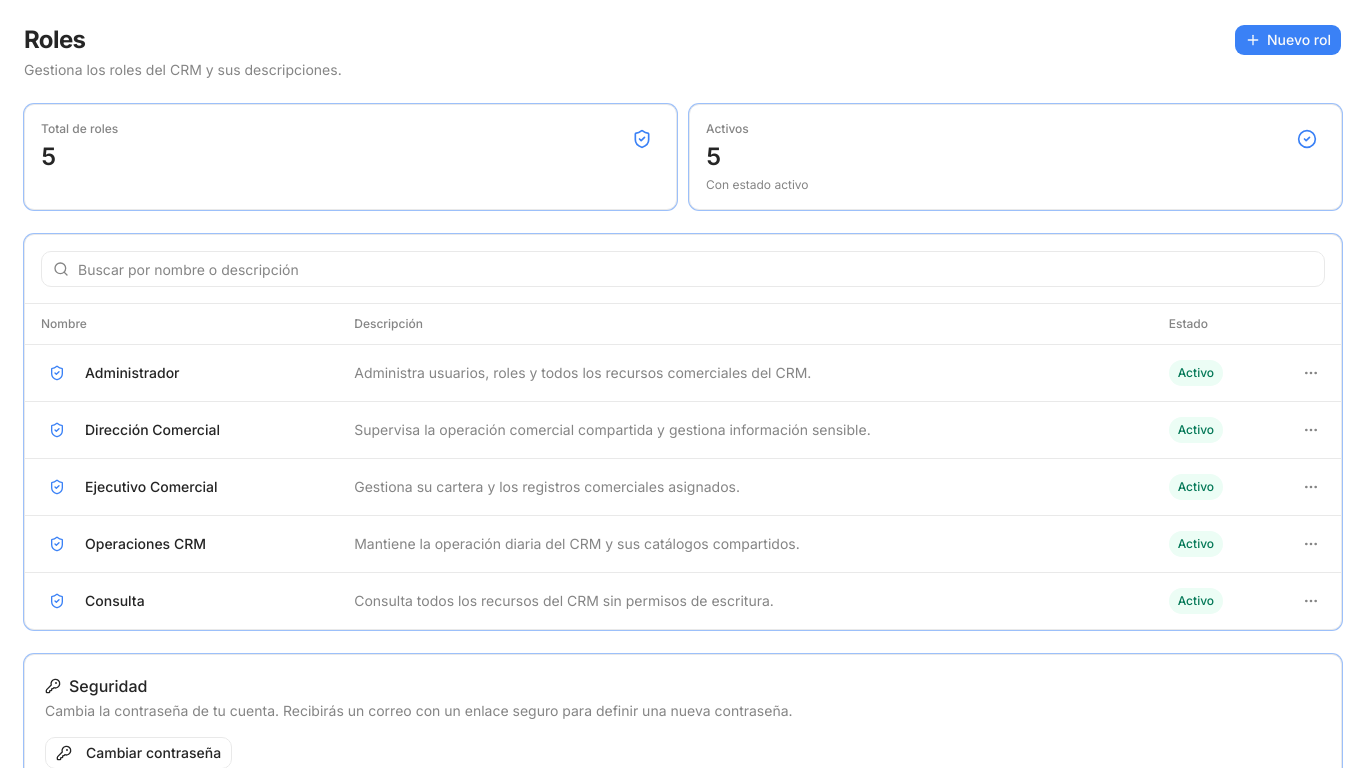
Scenario: RolesListPage › al click en "Nuevo rol" abre el diálogo con heading "Nuevo rol"
Check: the text "Administrador" is shown, box x1=85 y1=363 x2=180 y2=383
What coordinates should you click on to do the following:
click the button "Nuevo rol"
I would click on:
 (1288, 40)
Its box is x1=1234 y1=24 x2=1342 y2=56.
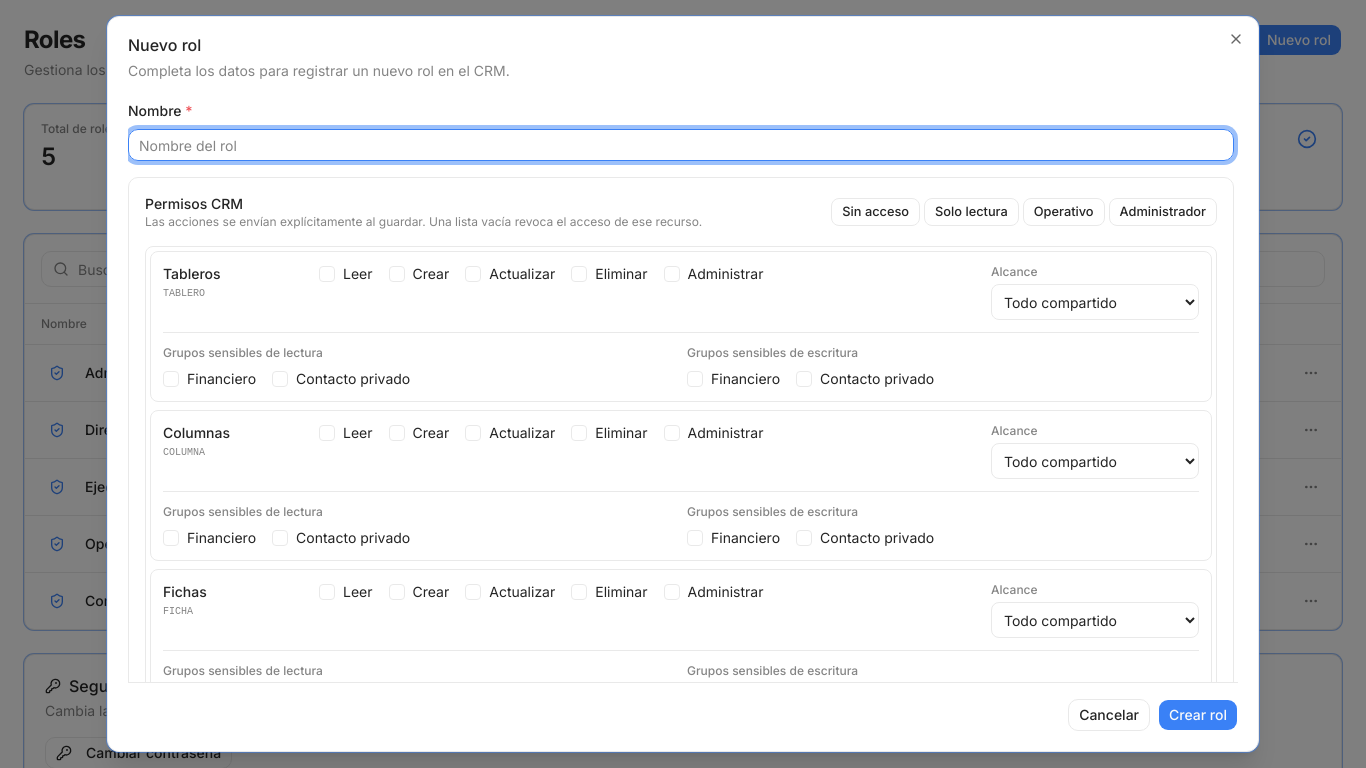
Check: the heading "Nuevo rol" is shown, box x1=128 y1=35 x2=201 y2=55
Check: the dialog is shown
